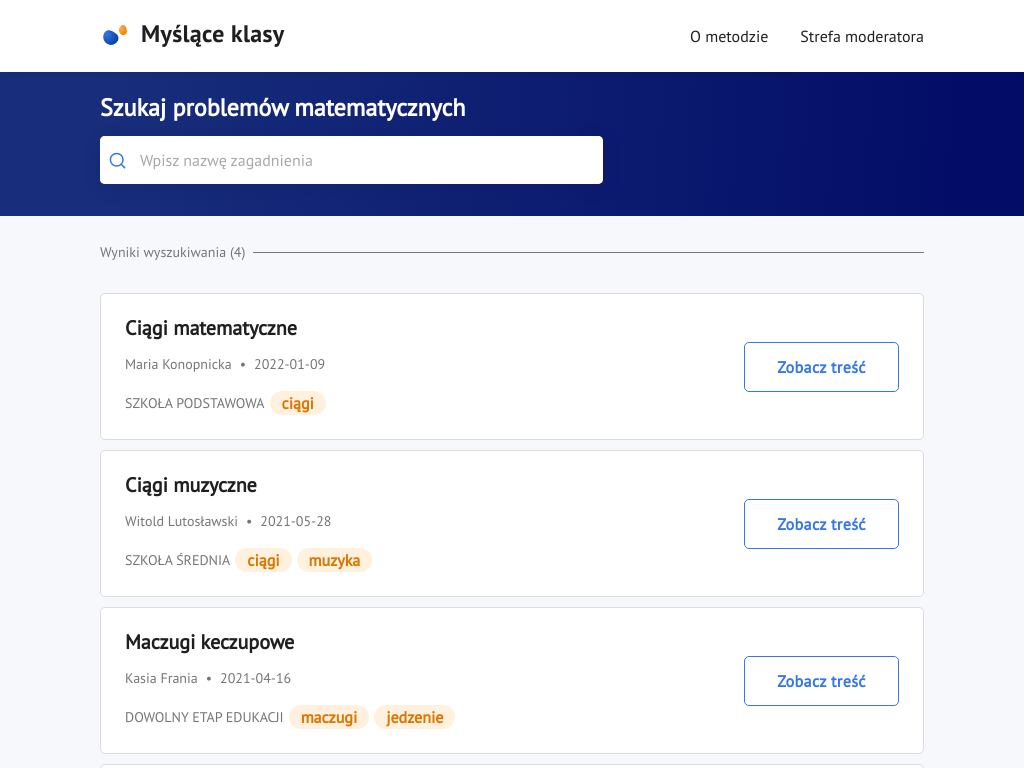
Test: Problem Detailed Page › shows download button
Click the link to "/problems/1". click: (131, 328)
box: x1=125 y1=315 x2=297 y2=341
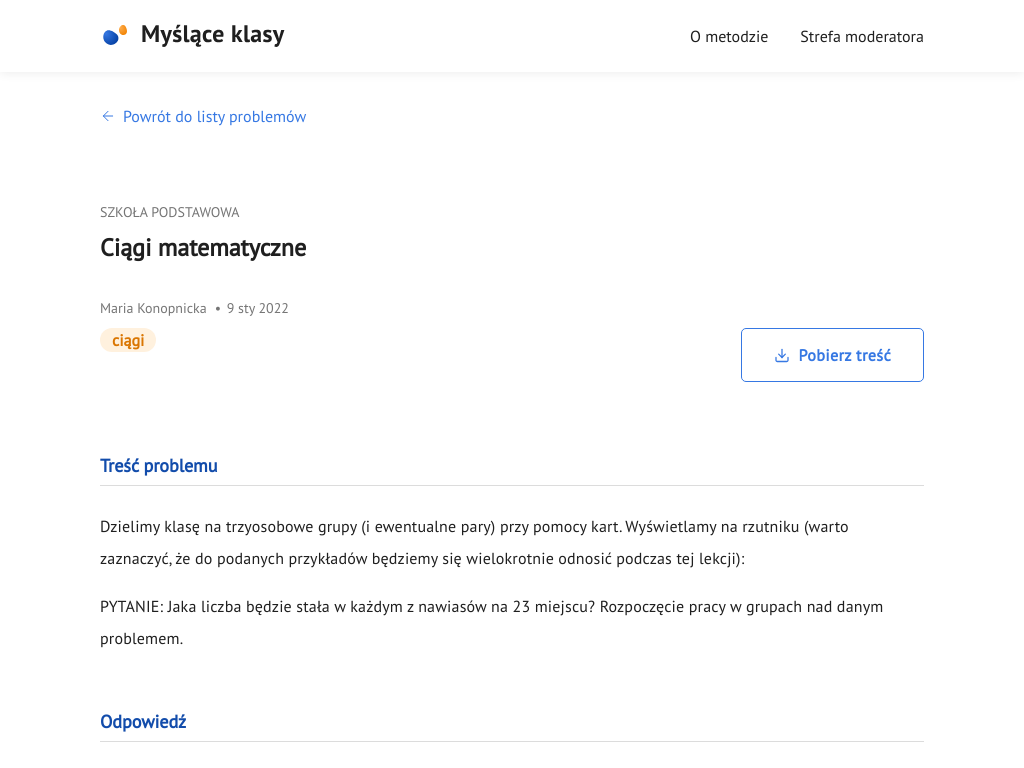
Now the button "Pobierz treść" is shown, box x1=742 y1=328 x2=924 y2=382
